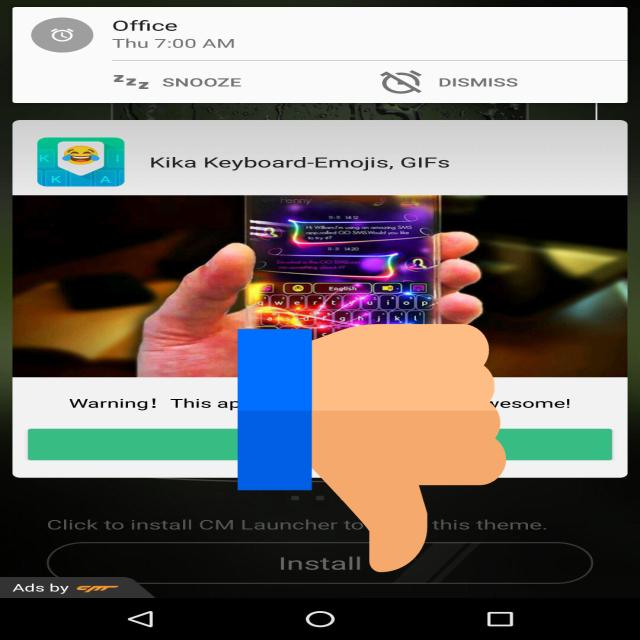obstruction: (238, 318, 506, 578)
